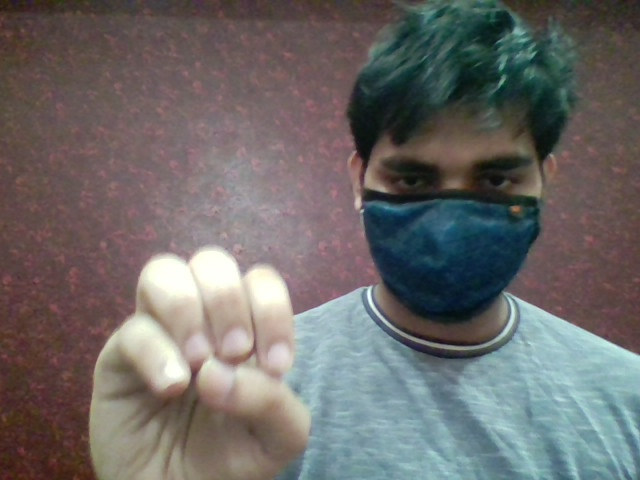e: (79, 237, 315, 479)
